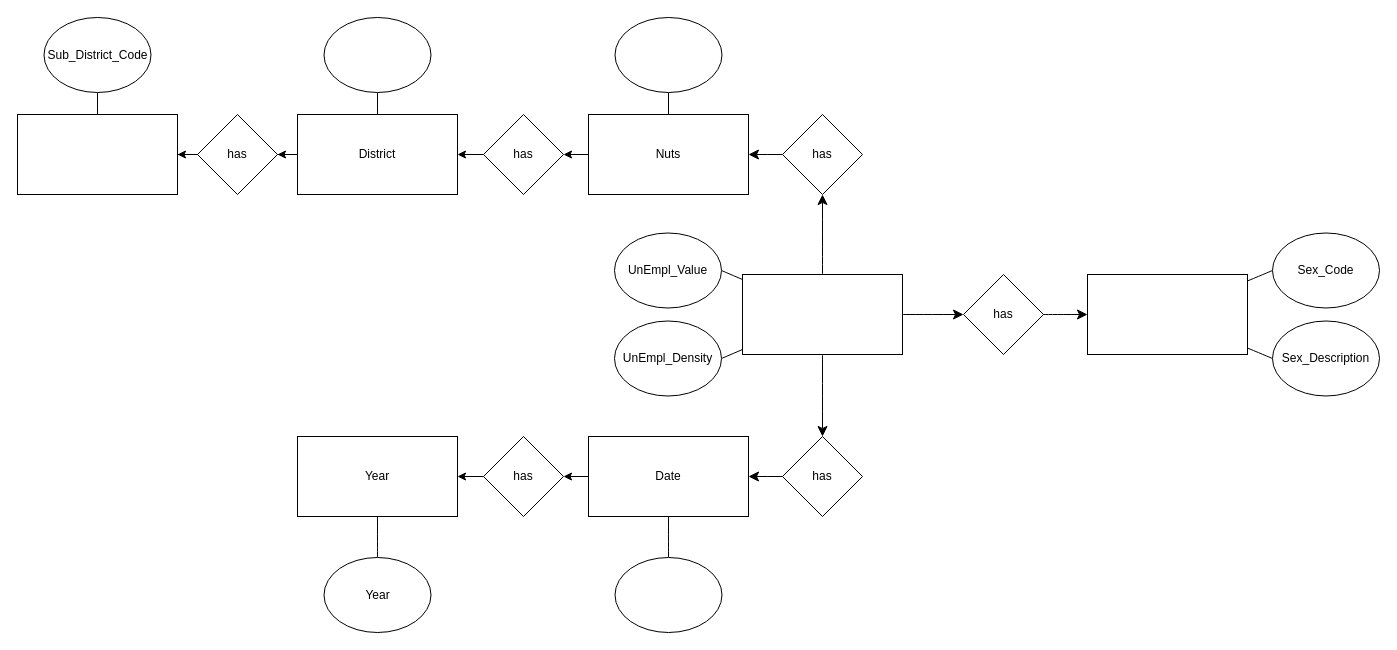
The diagram is 1397 pixels wide and 650 high, and some of its shapes have lost their labels. The box of each missing label's shape, as (x1, y1, x2, y2) in pixels:
District_Code: (323, 16, 431, 92)
Nuts_Code: (614, 16, 722, 92)
Ref_Date: (614, 556, 722, 632)
Sex: (1086, 274, 1248, 354)
SubDistrict: (16, 114, 178, 194)
UnemploymentStatistic: (742, 274, 902, 354)
